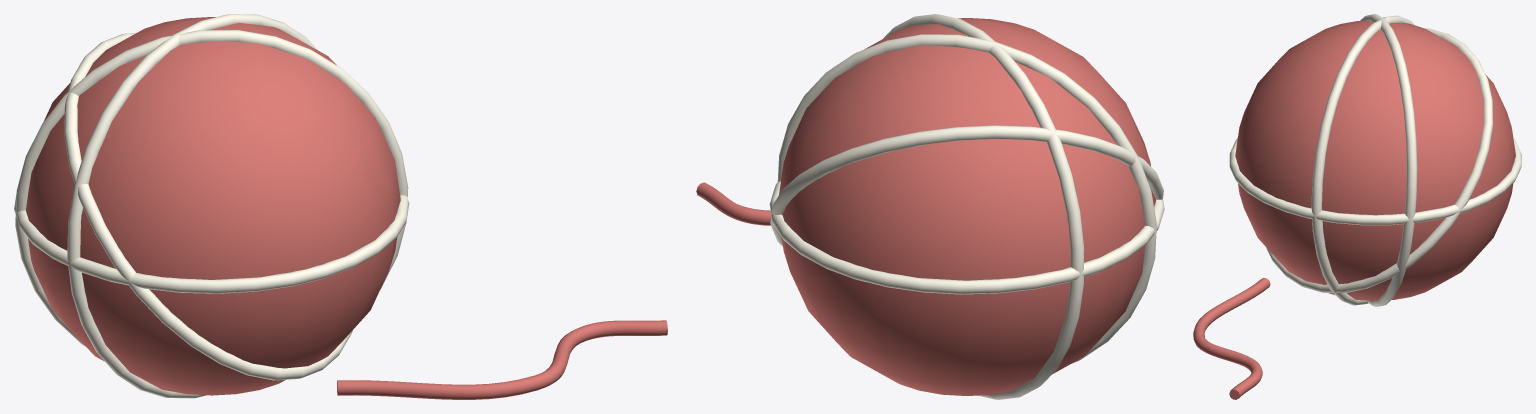
Rendered from yarnRed.glb.
3 renders of one model, left to right at view 1: azimuth 30°, elevation 25°; view 2: azimuth 150°, elevation 25°; view 3: azimuth 270°, elevation 25°, orthographic. The views are drawn at different scales.
Visible parts, largest first — view 1: Yarn ball, Yarn strand.003, Yarn strand.002, Yarn strand.001, Yarn strand, Loose yarn; view 2: Yarn ball, Yarn strand.002, Yarn strand.003, Yarn strand, Yarn strand.001, Loose yarn; view 3: Yarn ball, Yarn strand.001, Yarn strand, Yarn strand.003, Yarn strand.002, Loose yarn.
Boxes of the visible parts, <box> form: Yarn ball: <box>26,17,400,395</box>; Yarn strand.003: <box>15,30,408,346</box>; Yarn strand.002: <box>67,14,317,398</box>; Yarn strand.001: <box>64,32,352,380</box>; Yarn strand: <box>14,193,409,293</box>; Loose yarn: <box>337,320,667,399</box>; Yarn ball: <box>779,18,1155,395</box>; Yarn strand.002: <box>777,34,1156,363</box>; Yarn strand.003: <box>883,14,1084,399</box>; Yarn strand: <box>769,181,1164,294</box>; Yarn strand.001: <box>770,125,1163,246</box>; Loose yarn: <box>696,182,771,225</box>; Yarn ball: <box>1235,20,1515,300</box>; Yarn strand.001: <box>1266,28,1493,293</box>; Yarn strand: <box>1229,138,1521,225</box>; Yarn strand.003: <box>1311,15,1414,305</box>; Yarn strand.002: <box>1360,14,1417,306</box>; Loose yarn: <box>1193,278,1270,399</box>.
Size of the model in its own units: 1.04 by 0.6643 by 0.7452.
